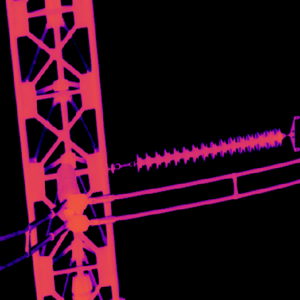insulator: (135, 127, 287, 172)
